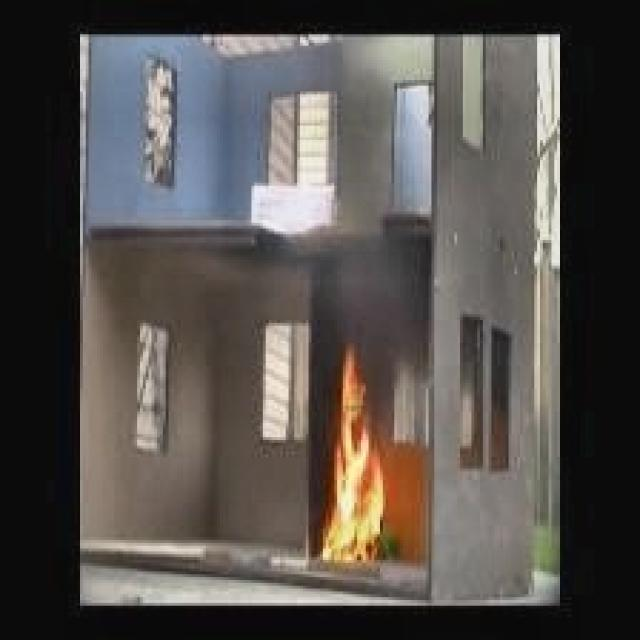fire: (323, 337, 400, 560)
